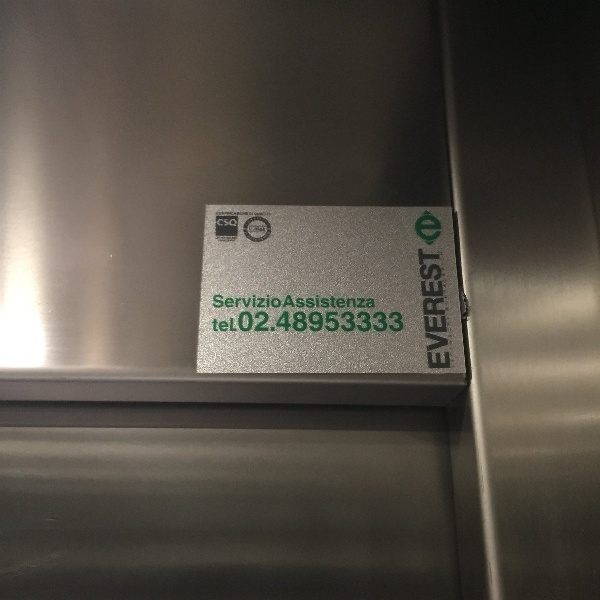text: (417, 247, 432, 371), (433, 247, 448, 371), (440, 251, 448, 370), (449, 251, 456, 370), (417, 211, 432, 247), (433, 211, 445, 247), (257, 217, 272, 243), (449, 247, 452, 371), (225, 310, 240, 334), (241, 310, 256, 334), (257, 310, 272, 334), (273, 310, 288, 334), (289, 310, 304, 334), (305, 310, 320, 334), (321, 310, 336, 334), (337, 310, 352, 334), (353, 310, 368, 334), (369, 310, 384, 334), (385, 310, 400, 334), (243, 217, 256, 243), (225, 293, 240, 311), (241, 293, 256, 311), (257, 293, 272, 311), (273, 293, 288, 311), (289, 293, 304, 311), (305, 293, 320, 311), (321, 293, 336, 311), (337, 293, 352, 311), (353, 293, 368, 311), (213, 310, 224, 334), (213, 293, 224, 311), (369, 293, 378, 311), (225, 218, 238, 227), (401, 310, 405, 334), (225, 211, 240, 217), (241, 211, 256, 217), (257, 211, 271, 217), (217, 218, 224, 227), (215, 211, 224, 217), (415, 211, 416, 247)
